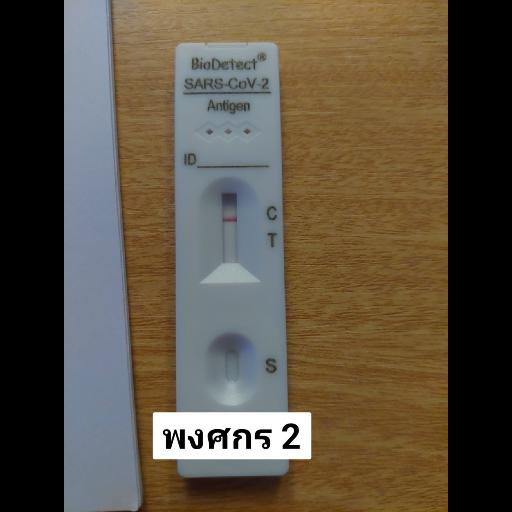Neg: (174, 44, 286, 476)
